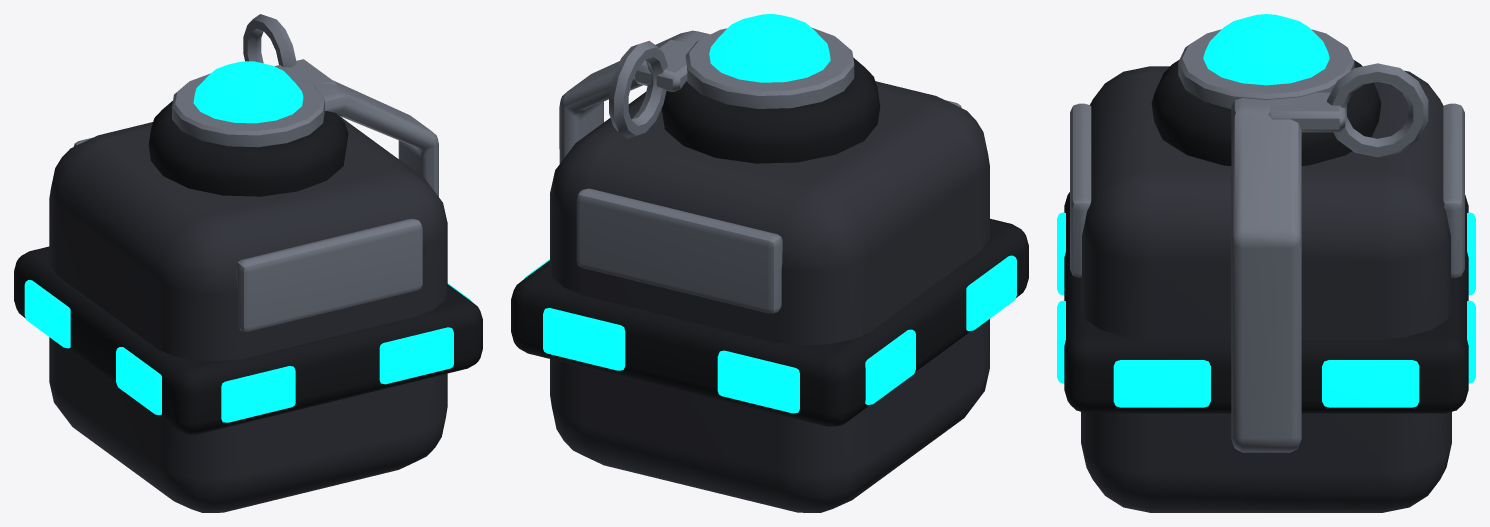
The model's file is Packet.fbx.
3 renders of one model, left to right at view 1: azimuth 30°, elevation 25°; view 2: azimuth 150°, elevation 25°; view 3: azimuth 270°, elevation 25°, orthographic. The views are drawn at different scales.
Visible parts, largest first — view 1: Body_Shell, Belt, Body_Trim, Cap_Dark, Windows_Energy, Fuse_Energy, Cap_Trim, Lever, Pin; view 2: Body_Shell, Belt, Body_Trim, Windows_Energy, Cap_Dark, Fuse_Energy, Cap_Trim, Pin, Lever; view 3: Body_Shell, Lever, Belt, Windows_Energy, Cap_Dark, Fuse_Energy, Body_Trim, Pin, Cap_Trim.
Part boxes in pixels (x1,y1,x2,y2): Body_Shell: (49, 117, 447, 512); Belt: (14, 246, 482, 434); Body_Trim: (73, 137, 422, 331); Cap_Dark: (148, 101, 348, 196); Windows_Energy: (24, 280, 470, 422); Fuse_Energy: (193, 61, 303, 123); Cap_Trim: (172, 73, 324, 147); Lever: (304, 77, 438, 196); Pin: (243, 14, 337, 85); Body_Shell: (550, 81, 989, 512); Belt: (511, 218, 1028, 426); Body_Trim: (576, 100, 961, 313); Windows_Energy: (524, 255, 1016, 413); Cap_Dark: (661, 57, 880, 163); Fuse_Energy: (709, 14, 830, 82); Cap_Trim: (685, 27, 854, 108); Pin: (609, 39, 690, 138); Lever: (559, 30, 709, 163); Body_Shell: (1081, 66, 1451, 512); Lever: (1231, 98, 1301, 452); Belt: (1064, 192, 1468, 413); Windows_Energy: (1057, 212, 1475, 407); Cap_Dark: (1151, 60, 1381, 165); Fuse_Energy: (1203, 14, 1329, 85); Body_Trim: (1070, 103, 1464, 277); Pin: (1268, 63, 1428, 157); Cap_Trim: (1178, 29, 1354, 108).
Size of the model in its own units: 0.481 by 0.54 by 0.452.
